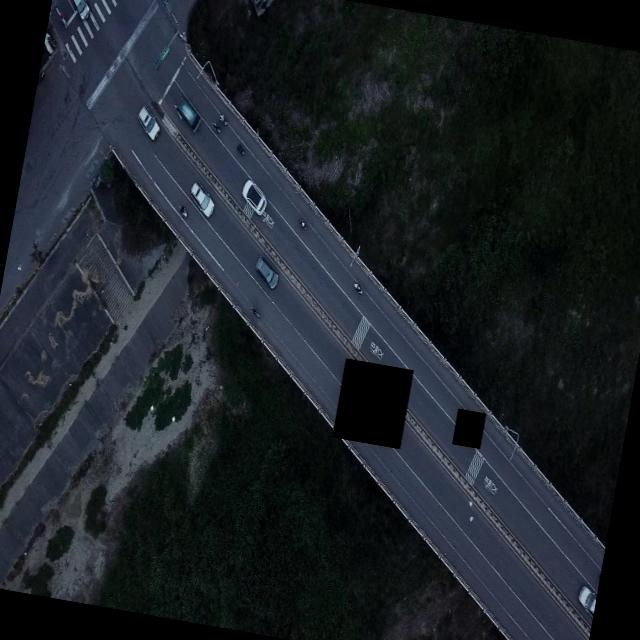bike: (216, 108, 232, 126), (236, 139, 249, 159), (210, 119, 223, 138), (248, 304, 262, 320), (351, 278, 364, 293), (177, 202, 188, 218), (296, 216, 306, 229)
car: (238, 176, 270, 216), (132, 102, 164, 142), (186, 180, 218, 218), (171, 95, 203, 132), (250, 254, 282, 290), (574, 581, 598, 617), (66, 0, 93, 19)
